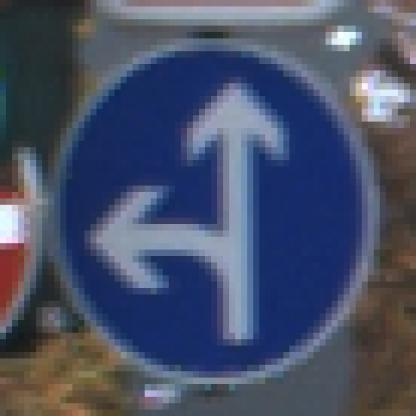Straight or Left: (43, 39, 381, 385)
